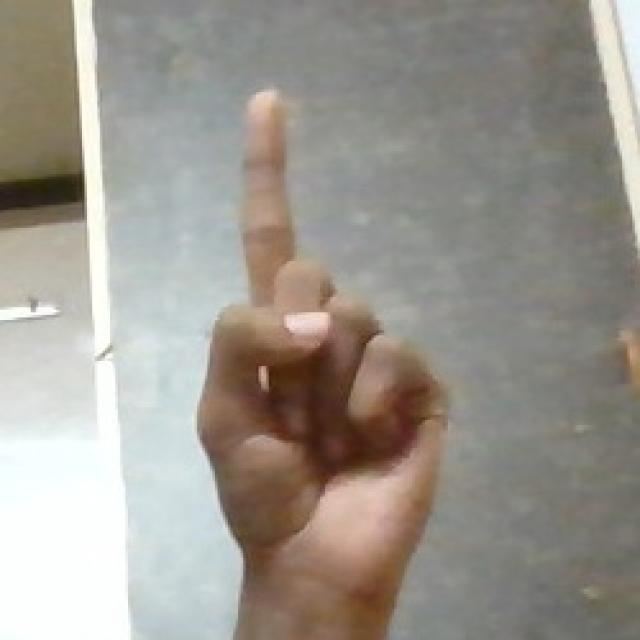Numeric-1: (197, 91, 432, 619)
